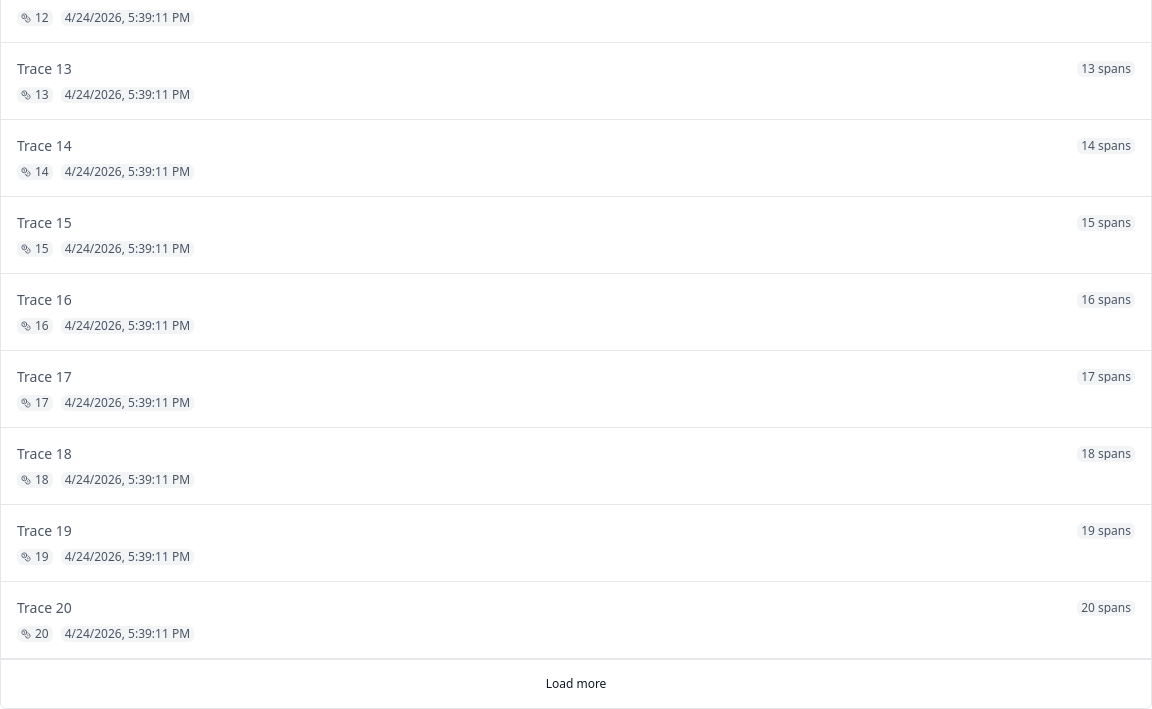
Test: TraceList › shows the first 20 traces and reveals more when load more is clicked
The width and height of the screenshot is (1152, 709).
(page scrolled)
expect the heading "Trace 20" is shown: met, box [17,598,72,618]
expect the text "Trace 21" is not shown: met
Click the button "Load more" at (576, 684), box [9,668,1143,700]
(page scrolled)
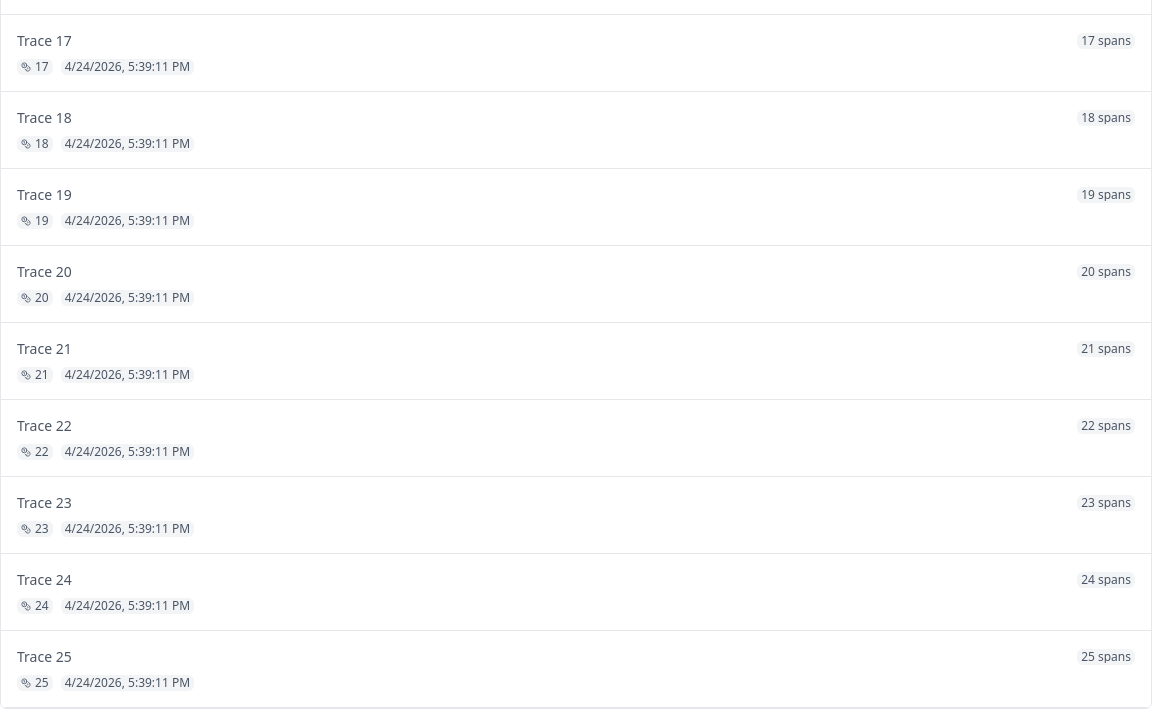
expect the heading "Trace 25" is shown: met, box [17,647,72,667]
expect the button "Load more" is gone: met
